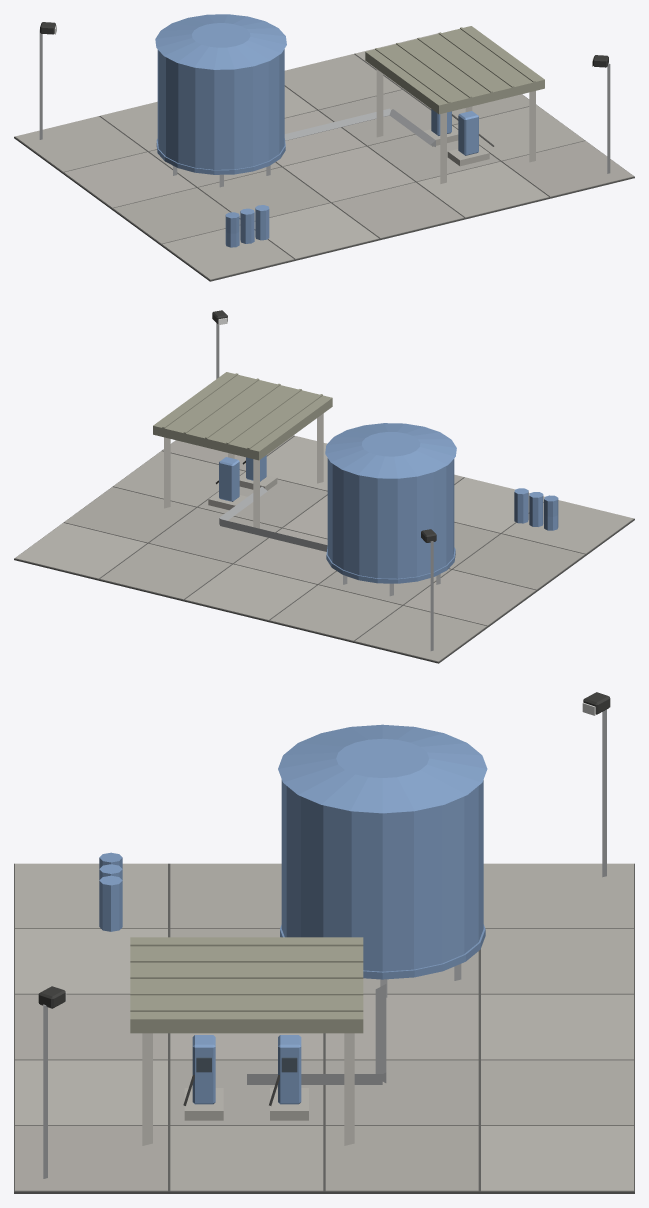
File: b_waterst.glb
3 renders of one model, top to bottom at view 1: azimuth 30°, elevation 25°; view 2: azimuth 150°, elevation 25°; view 3: azimuth 270°, elevation 25°, orthographic. The views are drawn at different scales.
Visible parts, largest first — view 1: hull; view 2: hull; view 3: hull.
Part boxes in pixels (bbox=[...]): hull: bbox=[14, 14, 634, 281]; hull: bbox=[14, 310, 634, 663]; hull: bbox=[14, 692, 634, 1193].
Size of the model in its own units: 20 by 5.85 by 16.
